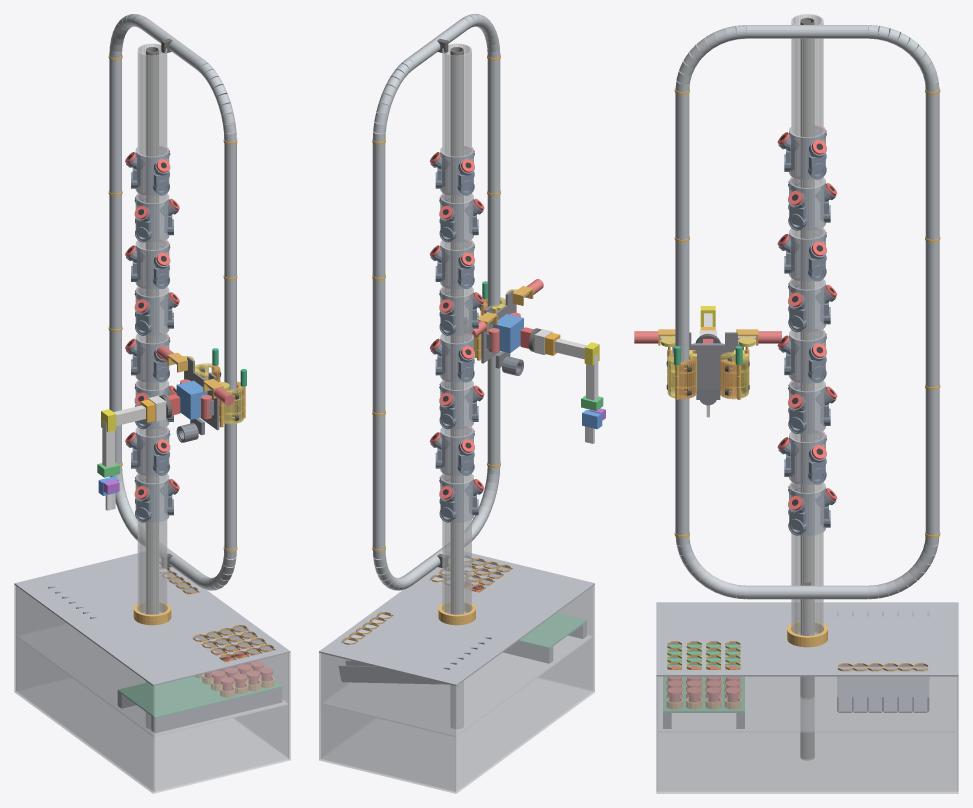
File: reach-test-cart-asis-v2.glb
3 renders of one model, left to right at view 1: azimuth 30°, elevation 25°; view 2: azimuth 150°, elevation 25°; view 3: azimuth 270°, elevation 25°, orthographic. The views are drawn at different scales.
Bounding box in the file's own units: 0.483 × 1.9 × 0.751.
